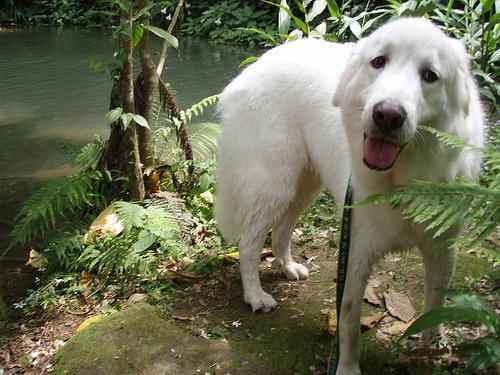Great_Pyrenees: (212, 17, 482, 374)
